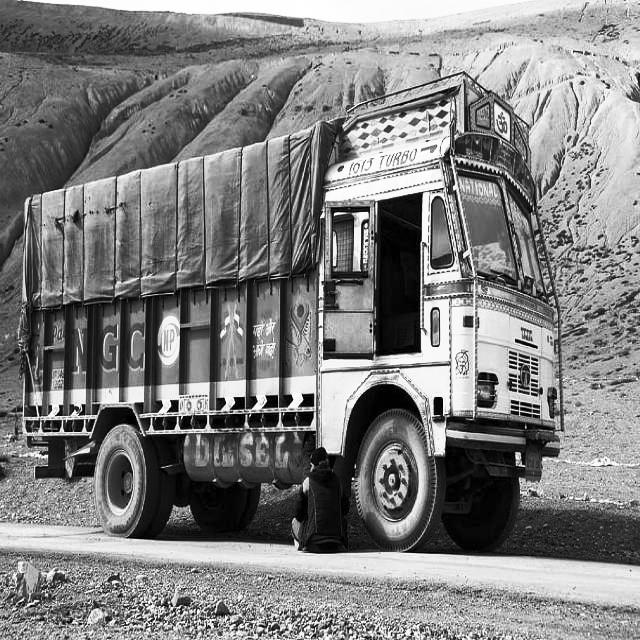HCV: (10, 68, 566, 574)
